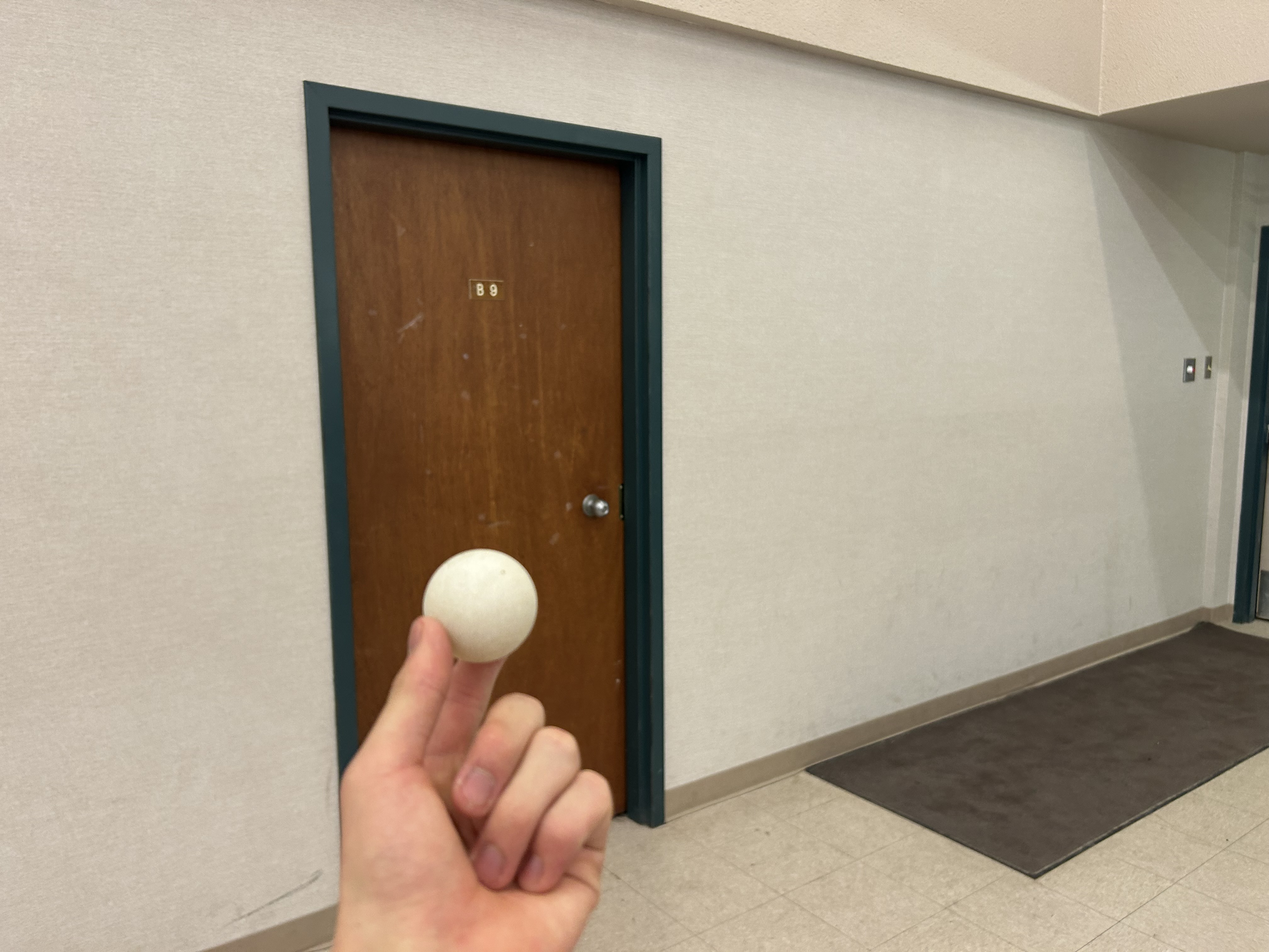Ball: (422, 547, 539, 662)
